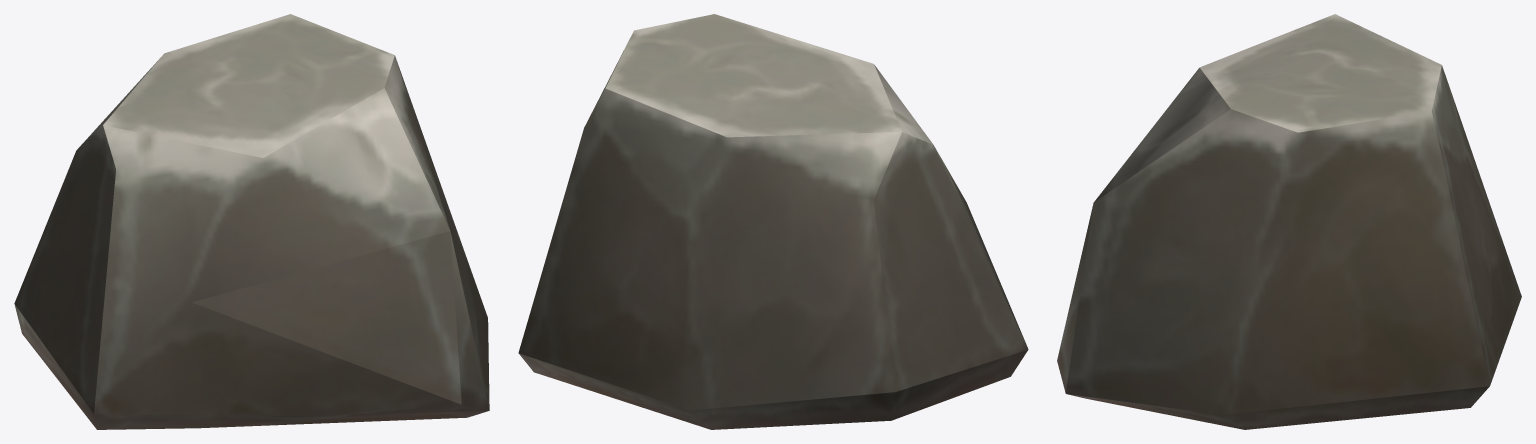
Rendered from rocks_07.glb.
The picture shows the model from 3 angles, left to right: view 1: azimuth 30°, elevation 25°; view 2: azimuth 150°, elevation 25°; view 3: azimuth 270°, elevation 25°; orthographic projection. The views are drawn at different scales.
Visible parts, largest first — view 1: SM_Rocks_07_RocksStylized_M_0; view 2: SM_Rocks_07_RocksStylized_M_0; view 3: SM_Rocks_07_RocksStylized_M_0.
Boxes of the visible parts, x1,y1,x2,y2 form: SM_Rocks_07_RocksStylized_M_0: [14, 14, 489, 429]; SM_Rocks_07_RocksStylized_M_0: [518, 14, 1028, 429]; SM_Rocks_07_RocksStylized_M_0: [1057, 14, 1521, 429].
Size of the model in its own units: 5.75 by 4.1 by 5.77.
Materials: 1 (1 with a texture image).
